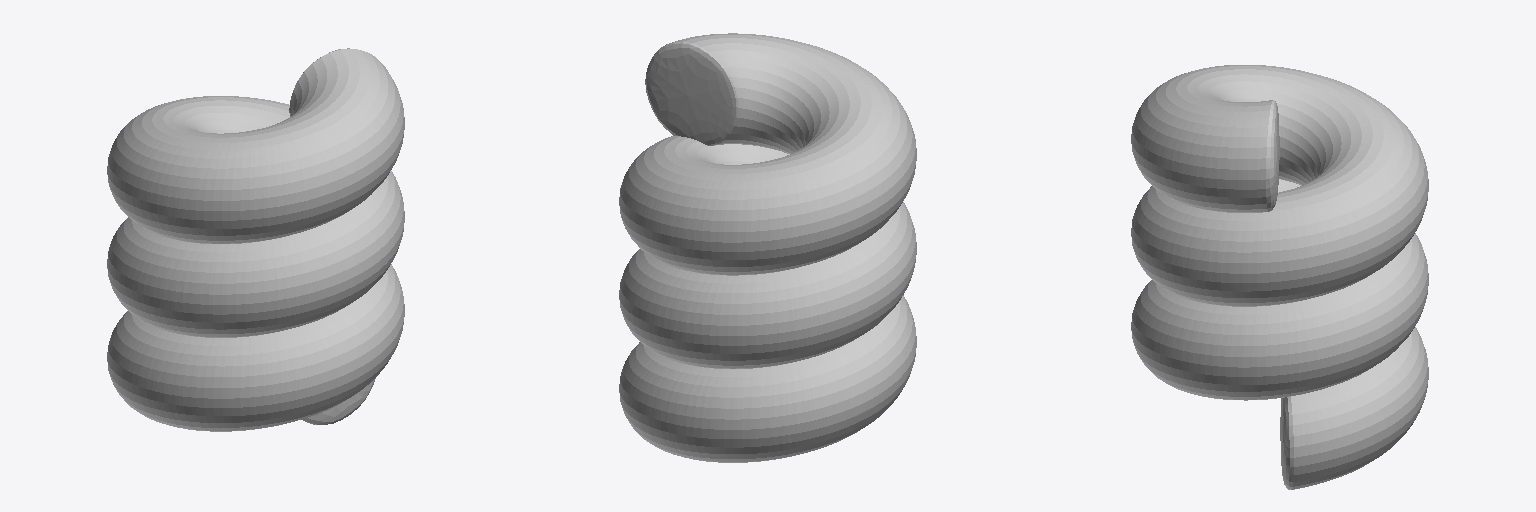
File: helix_35.0.obj
The picture shows the model from 3 angles: view 1: azimuth 30°, elevation 25°; view 2: azimuth 150°, elevation 25°; view 3: azimuth 270°, elevation 25°; orthographic projection.
Visible parts, largest first — view 1: helix:pHelix1; view 2: helix:pHelix1; view 3: helix:pHelix1.
Part boxes in pixels (left/top/right/bottom): helix:pHelix1: left=107, top=48, right=404, bottom=431; helix:pHelix1: left=619, top=33, right=916, bottom=462; helix:pHelix1: left=1131, top=65, right=1428, bottom=489.
Size of the model in its own units: 1.92 by 2.71 by 1.92.